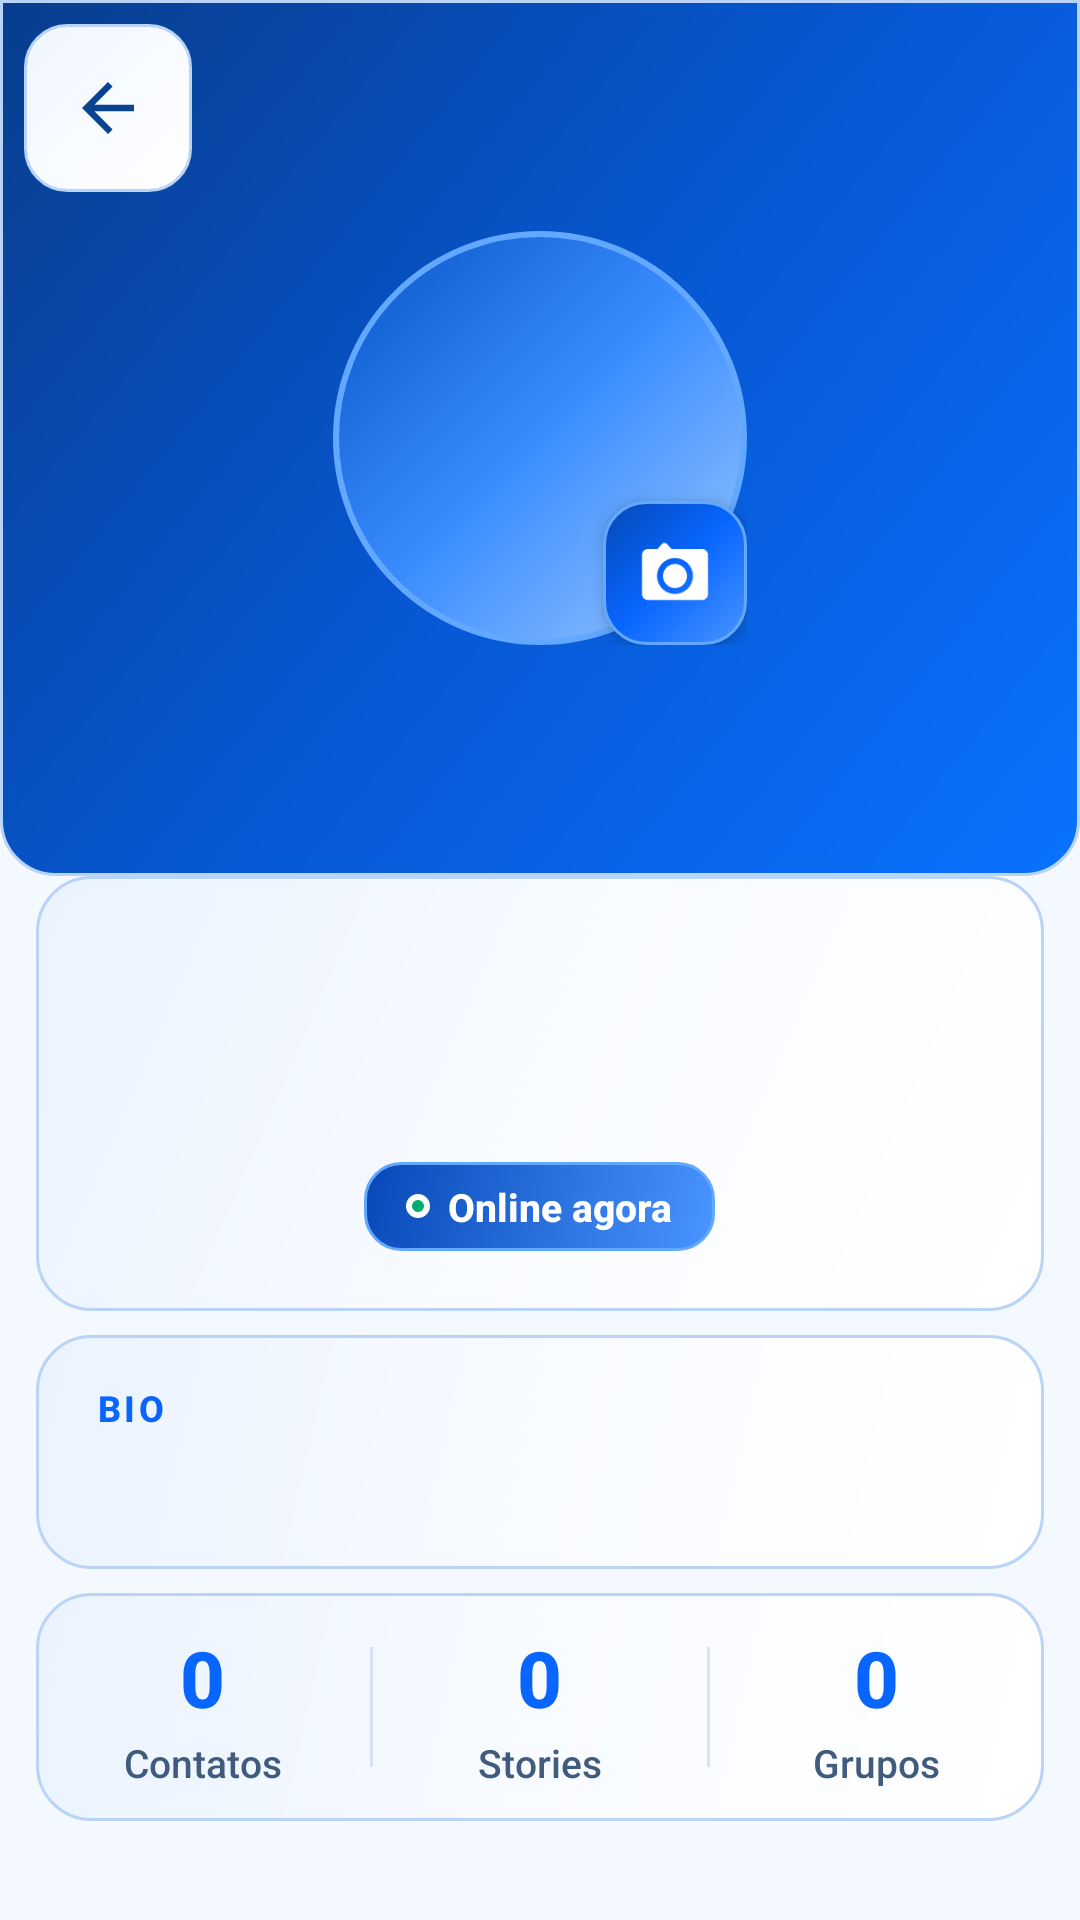

Named icons in this screenshot (1080*1920) and their bounding boxes, (x1=x1, y1=y1, x2=x2, y2=y2):
Voltar: (x1=24, y1=24, x2=192, y2=192)
zen camera: (x1=639, y1=537, x2=711, y2=609)
